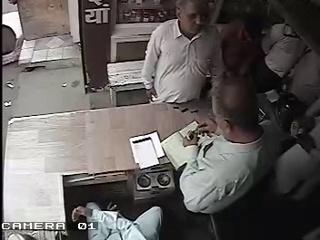Normal: (178, 74, 282, 239), (140, 0, 224, 105)
